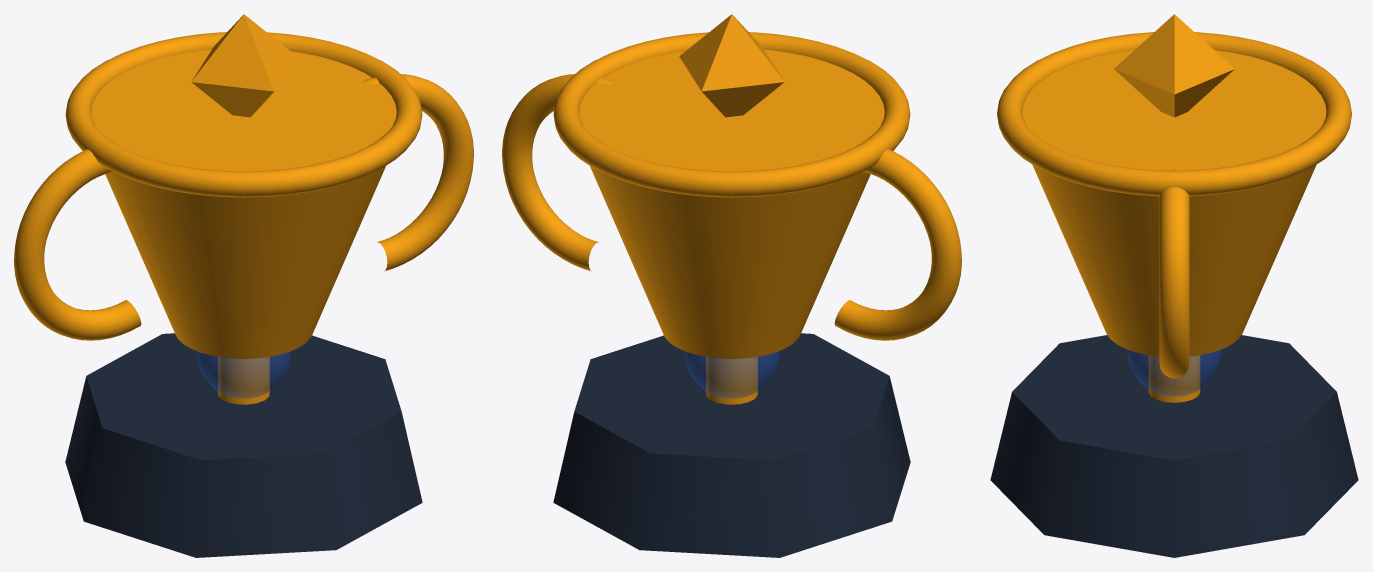
File: trophy.glb
3 views of the same model, side by side, from view 1: azimuth 30°, elevation 25°; view 2: azimuth 150°, elevation 25°; view 3: azimuth 270°, elevation 25° (orthographic).
Visible parts, largest first — view 1: TrophyModel; view 2: TrophyModel; view 3: TrophyModel.
Boxes of the visible parts, left/top/right/bottom form: TrophyModel: left=14, top=14, right=473, bottom=557; TrophyModel: left=502, top=14, right=961, bottom=557; TrophyModel: left=990, top=14, right=1358, bottom=557.
Size of the model in its own units: 2.42 by 2.37 by 1.7.
